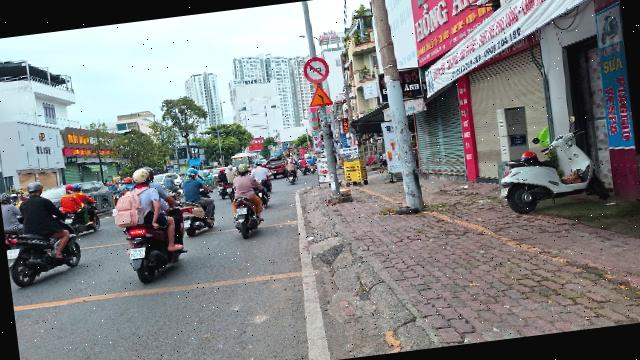cam-bop-coi: (302, 55, 331, 85)
cho-ngoat-nguy-hiem-ben-trai: (307, 82, 333, 107)
